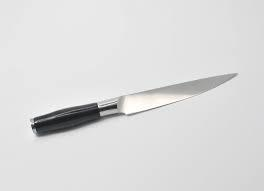Knife: (29, 71, 238, 136)
